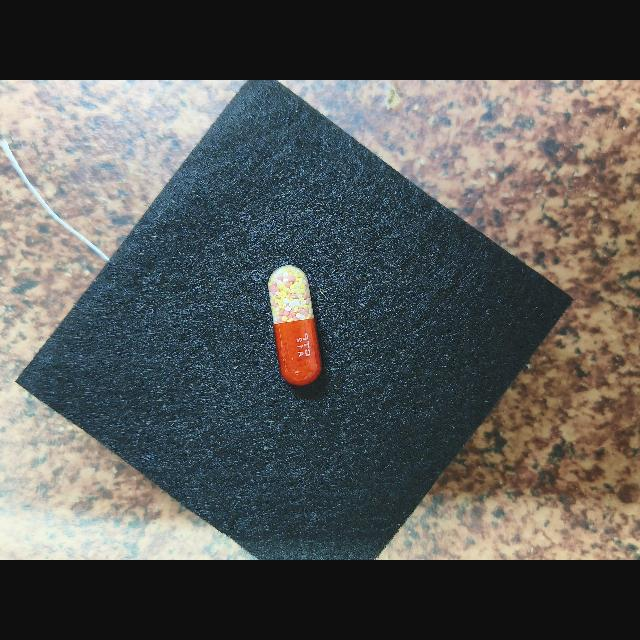Intact Capsule: (268, 265, 322, 386)
